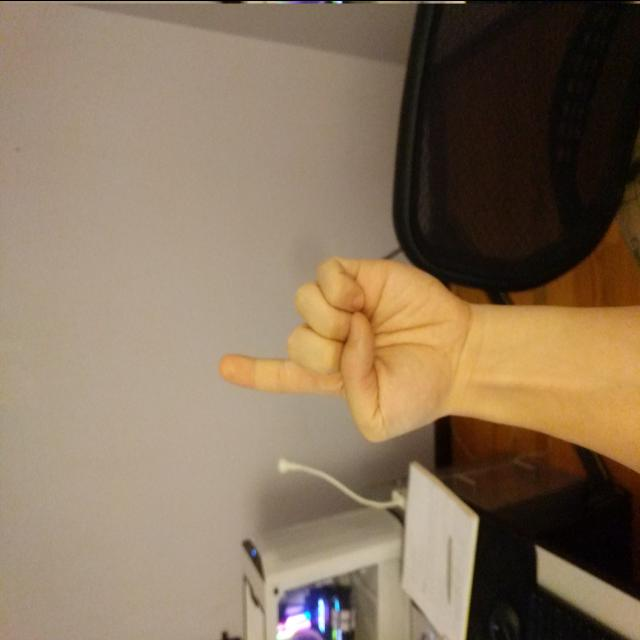D: (215, 250, 483, 448)
